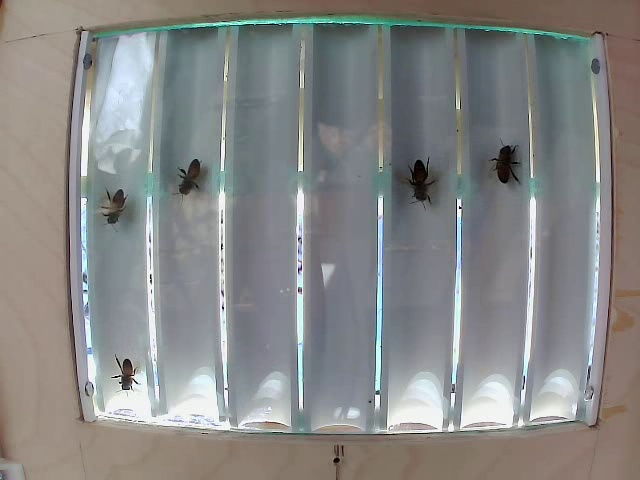bee: (400, 155, 448, 214), (101, 173, 143, 236), (175, 153, 218, 209), (489, 141, 526, 193), (108, 357, 145, 393)
